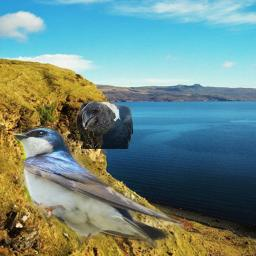Crow: (76, 101, 133, 149)
Swallow: (13, 127, 184, 255)
